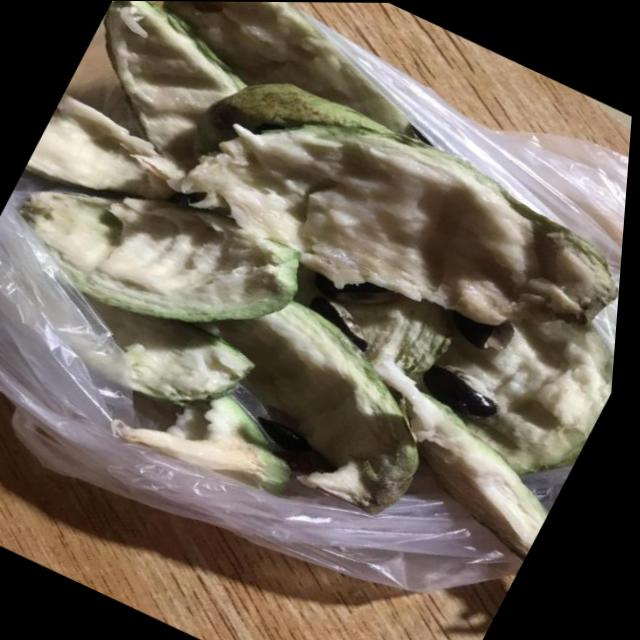organic: (137, 49, 636, 397), (0, 137, 323, 376), (167, 264, 476, 496), (94, 364, 313, 520)
